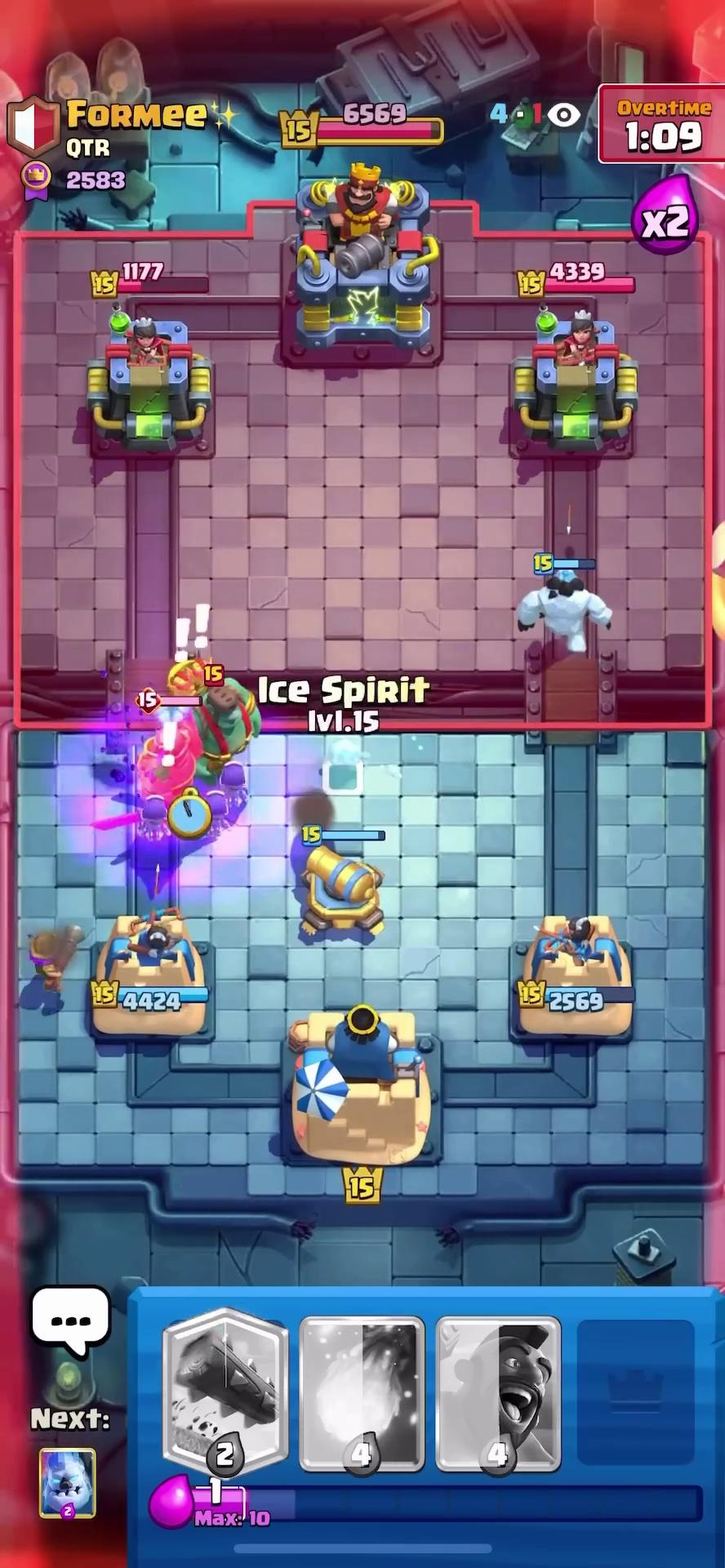cannon: (278, 829, 402, 941)
evo_skeletons: (133, 768, 257, 841)
ice_golem: (510, 533, 618, 666)
musketeer: (2, 906, 94, 990)
